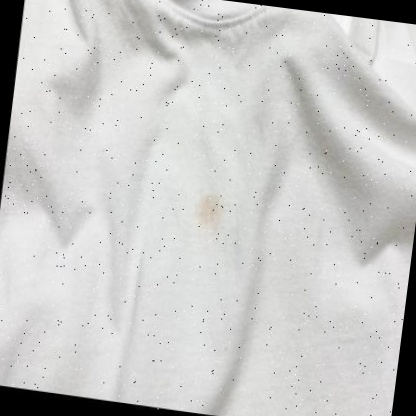coffee: (194, 193, 225, 228)
